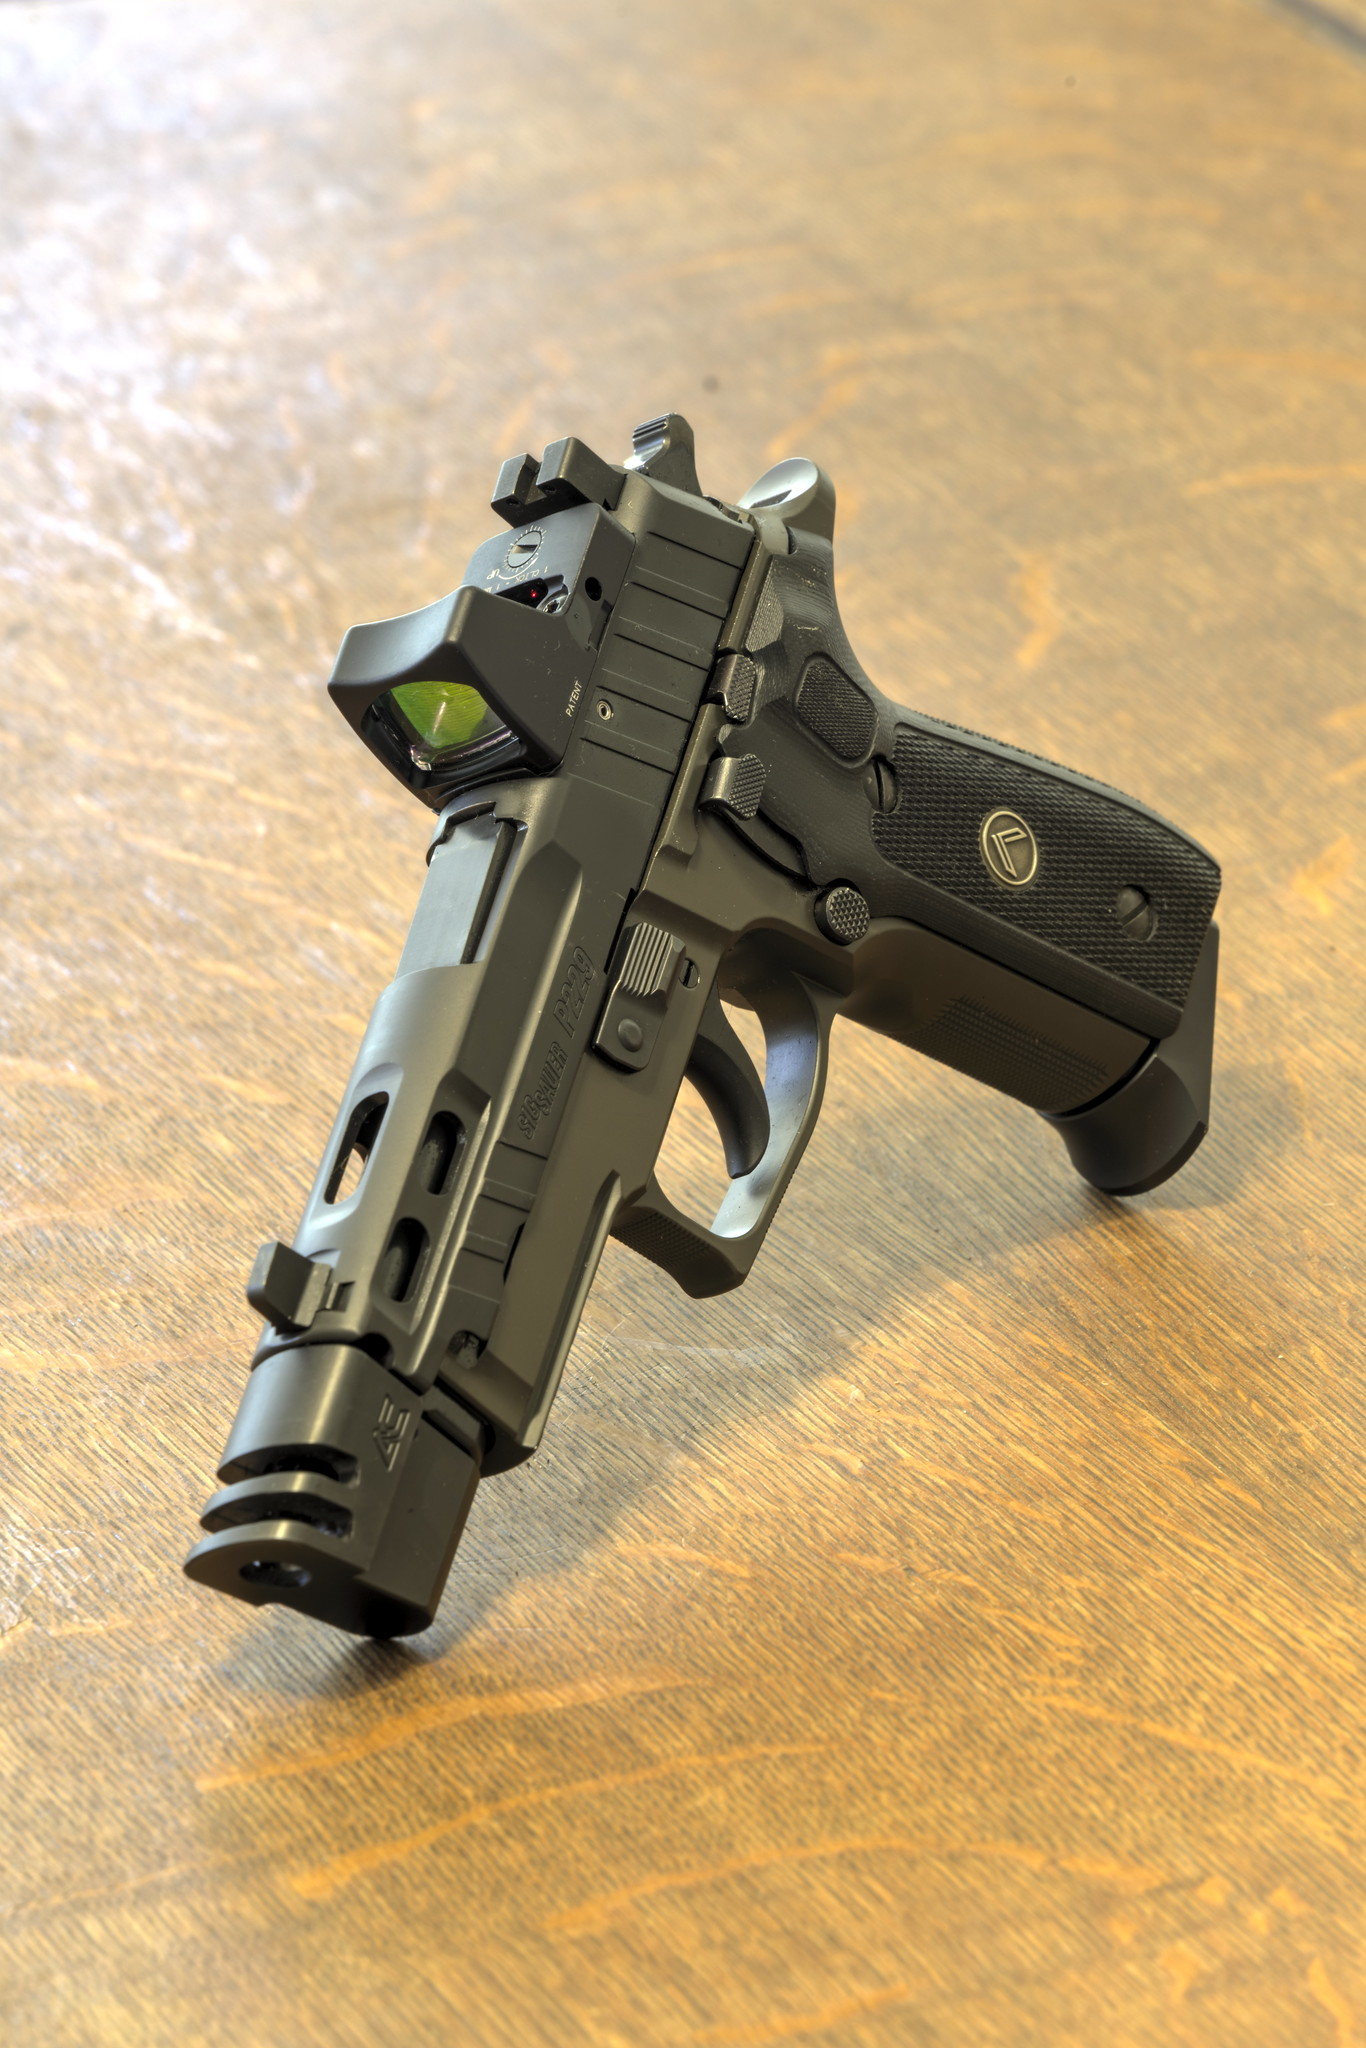gun: (162, 372, 1252, 1745)
